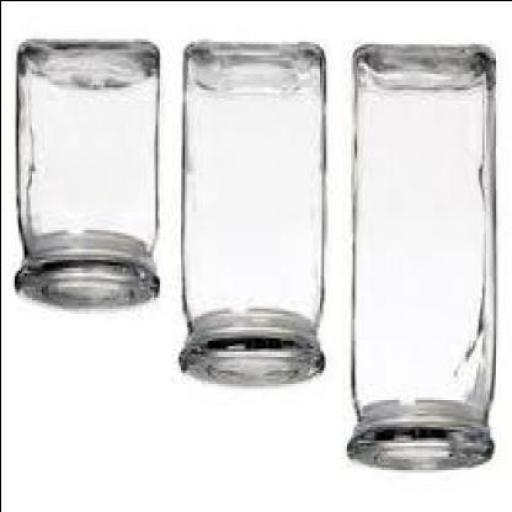glass: (344, 46, 494, 475), (176, 40, 325, 382), (11, 38, 159, 313)
